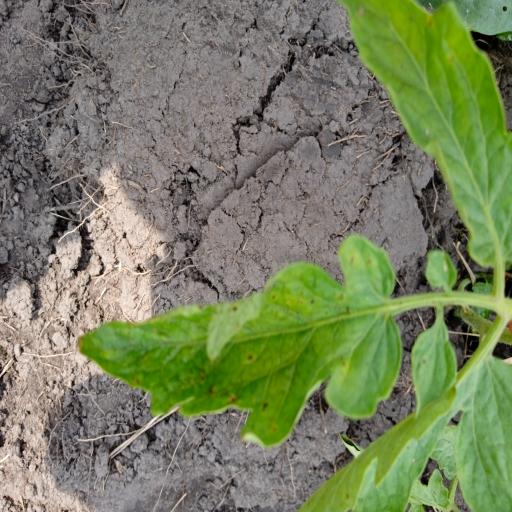Tomato_Brown_Spots: (72, 230, 408, 452), (345, 0, 512, 266)
